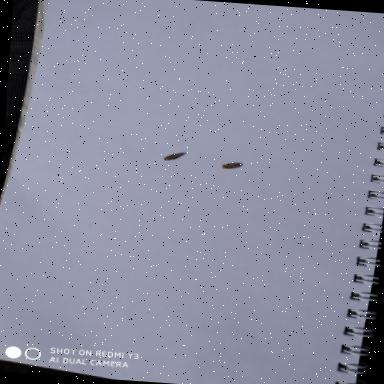pbw: (162, 151, 182, 161), (220, 161, 240, 169)
